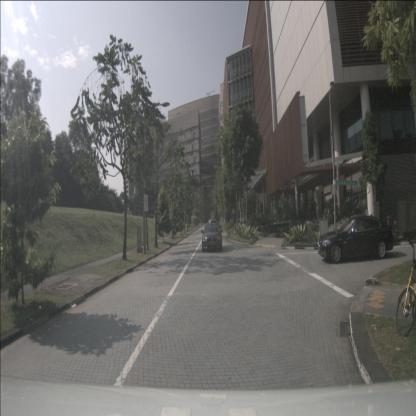vehicle-bicycle: (396, 236, 416, 337)
vehicle-car: (318, 215, 394, 264), (202, 223, 222, 252), (208, 219, 217, 234)
